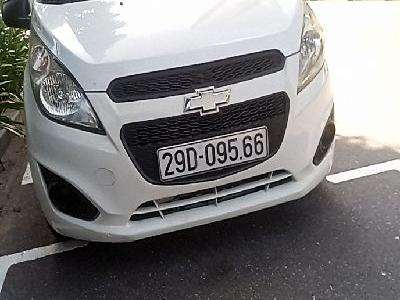number: (159, 126, 269, 180)
